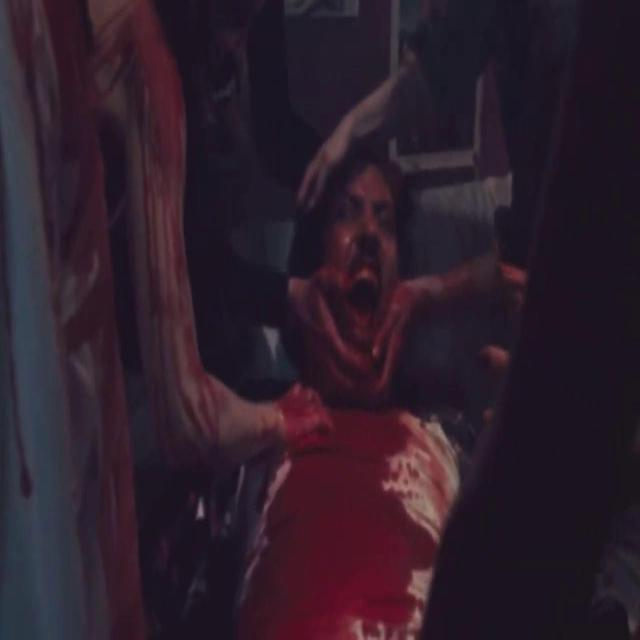flood: (302, 407, 383, 640)
